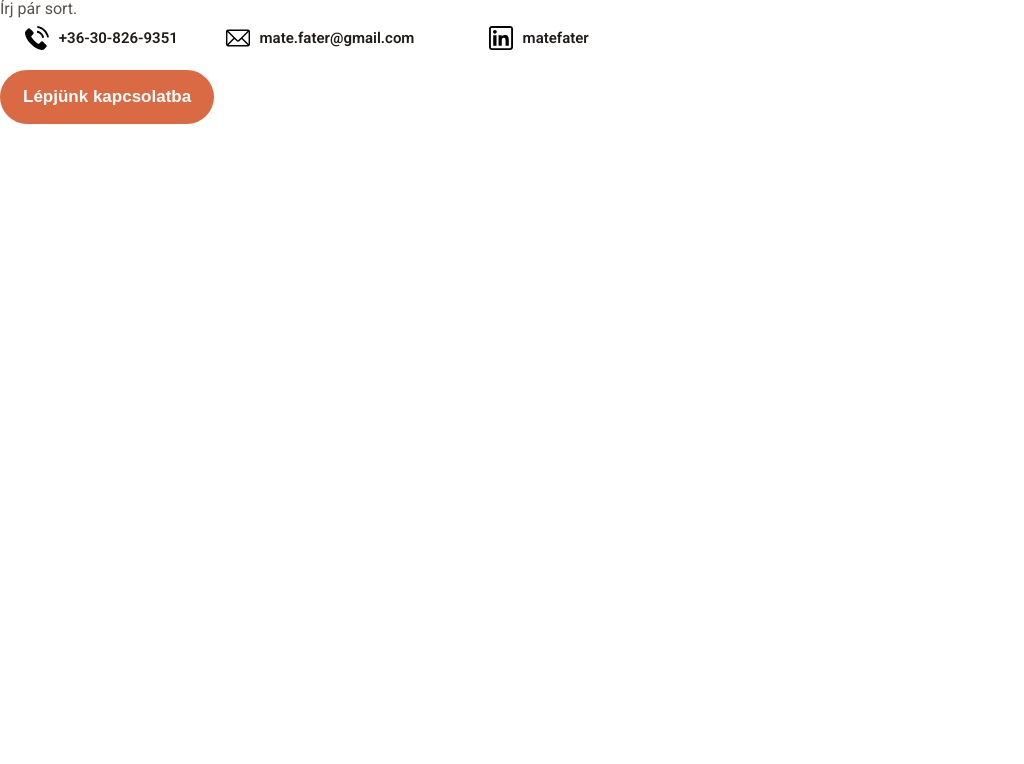
ContactSection › reveals the contact form card after CTA click
Click the button "Lépjünk kapcsolatba".
click(107, 97)  # box 0,70 -> 214,124
(page scrolled)
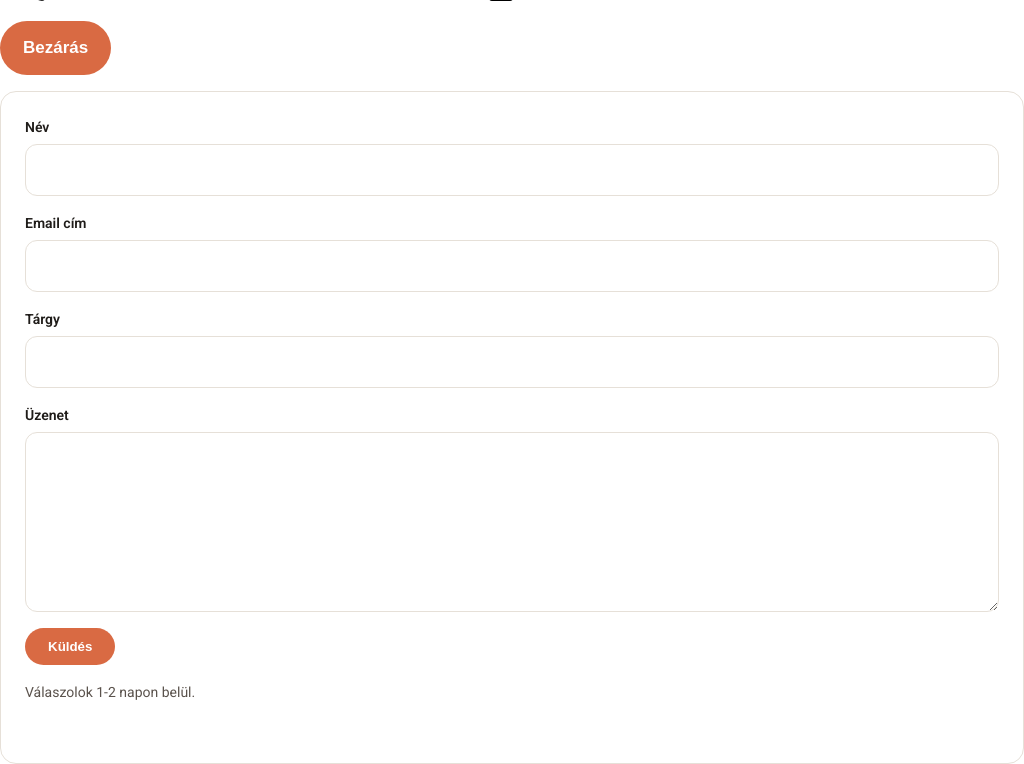
Result: the form is shown
